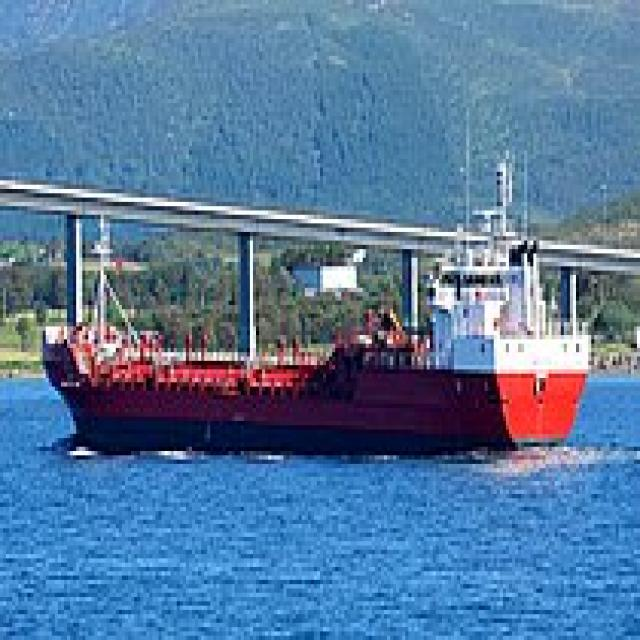Tanker: (34, 146, 591, 451)
